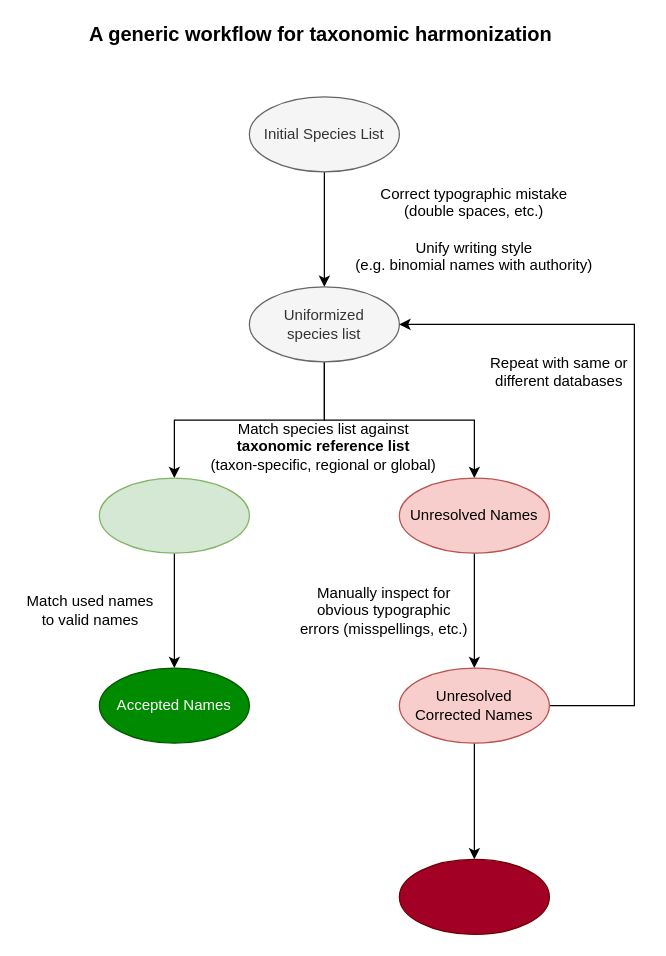
This 666x956 diagram has some shape labels left out. Here are the shapes that lost their labels. From the top down, the centre of each, then its label:
point (173, 515): Resolved Names
point (473, 896): Never resolved names
